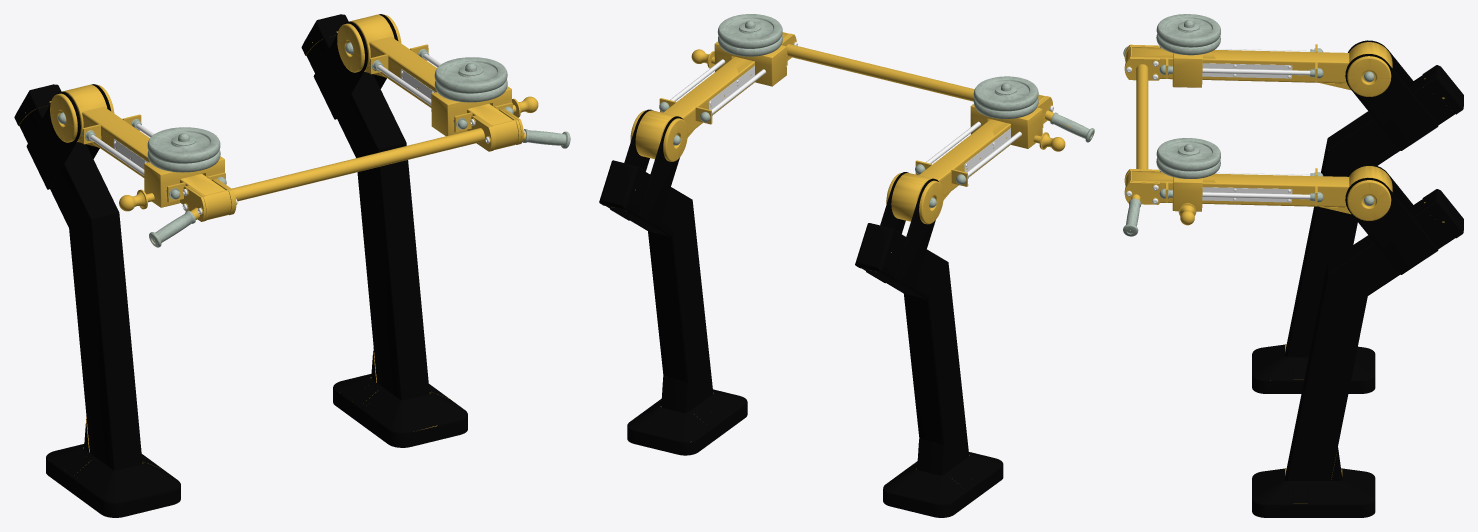
The picture shows the model from 3 angles, left to right: view 1: azimuth 30°, elevation 25°; view 2: azimuth 150°, elevation 25°; view 3: azimuth 270°, elevation 25°; orthographic projection. The views are drawn at different scales.
Visible parts, largest first — view 1: Geom3D (×3), Geom3D_HE08 - Squat.STL#1; view 2: Geom3D (×3), Geom3D_HE08 - Squat.STL#1; view 3: Geom3D (×3), Geom3D_HE08 - Squat.STL#1.
Boxes of the visible parts, bbox=[...] form: Geom3D (×3): bbox=[14, 14, 570, 517]; Geom3D_HE08 - Squat.STL#1: bbox=[18, 14, 538, 472]; Geom3D (×3): bbox=[599, 14, 1094, 517]; Geom3D_HE08 - Squat.STL#1: bbox=[630, 32, 1092, 483]; Geom3D (×3): bbox=[1123, 14, 1463, 517]; Geom3D_HE08 - Squat.STL#1: bbox=[1124, 42, 1444, 503].
Bounding box in the file's own units: 1.45 × 1.34 × 1.16.
4 materials, 1 textured.
